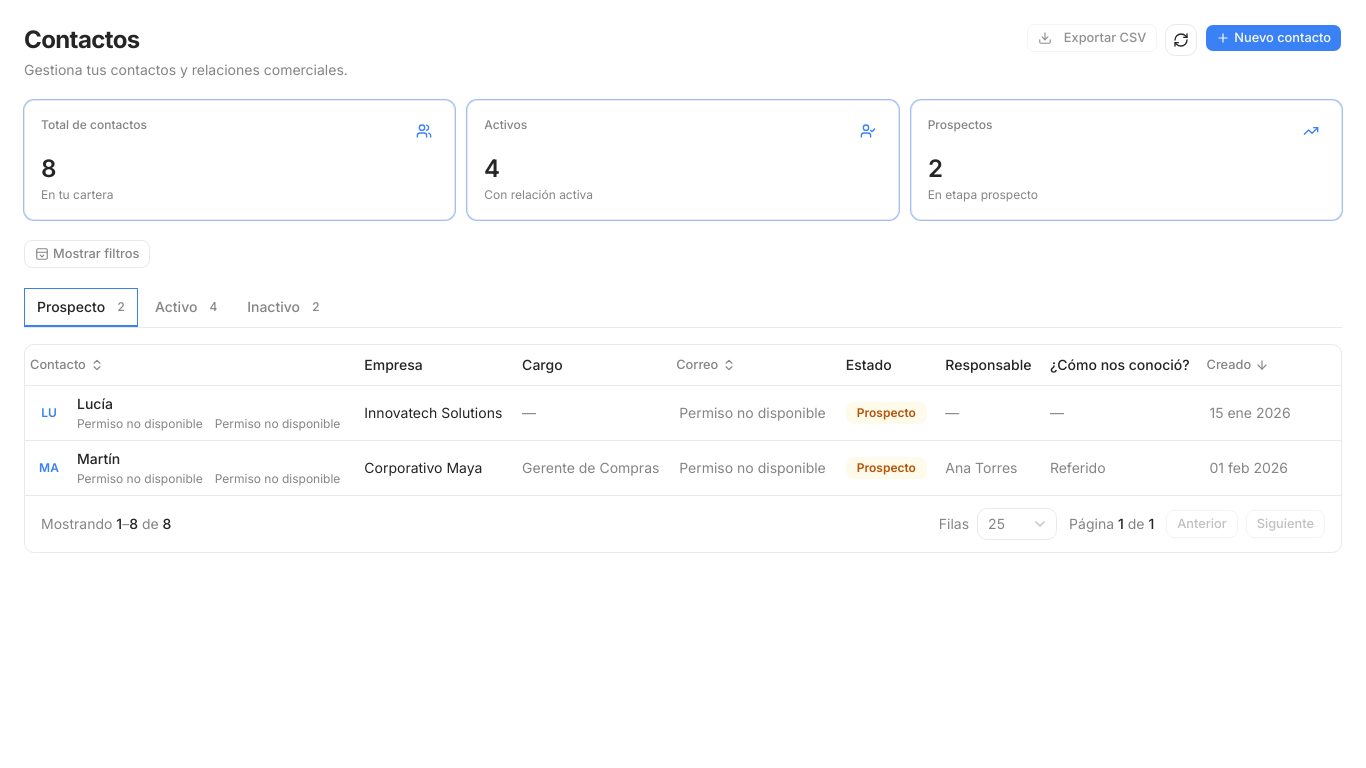
Test: ContactosPage › el botón "Nuevo contacto" abre el diálogo de creación
This screenshot has width=1366, height=768.
Expected: the link "Lucía" is shown, 77,394 -> 113,412
Click the button "Nuevo contacto".
click(1274, 38)  # box 1205,24 -> 1342,52
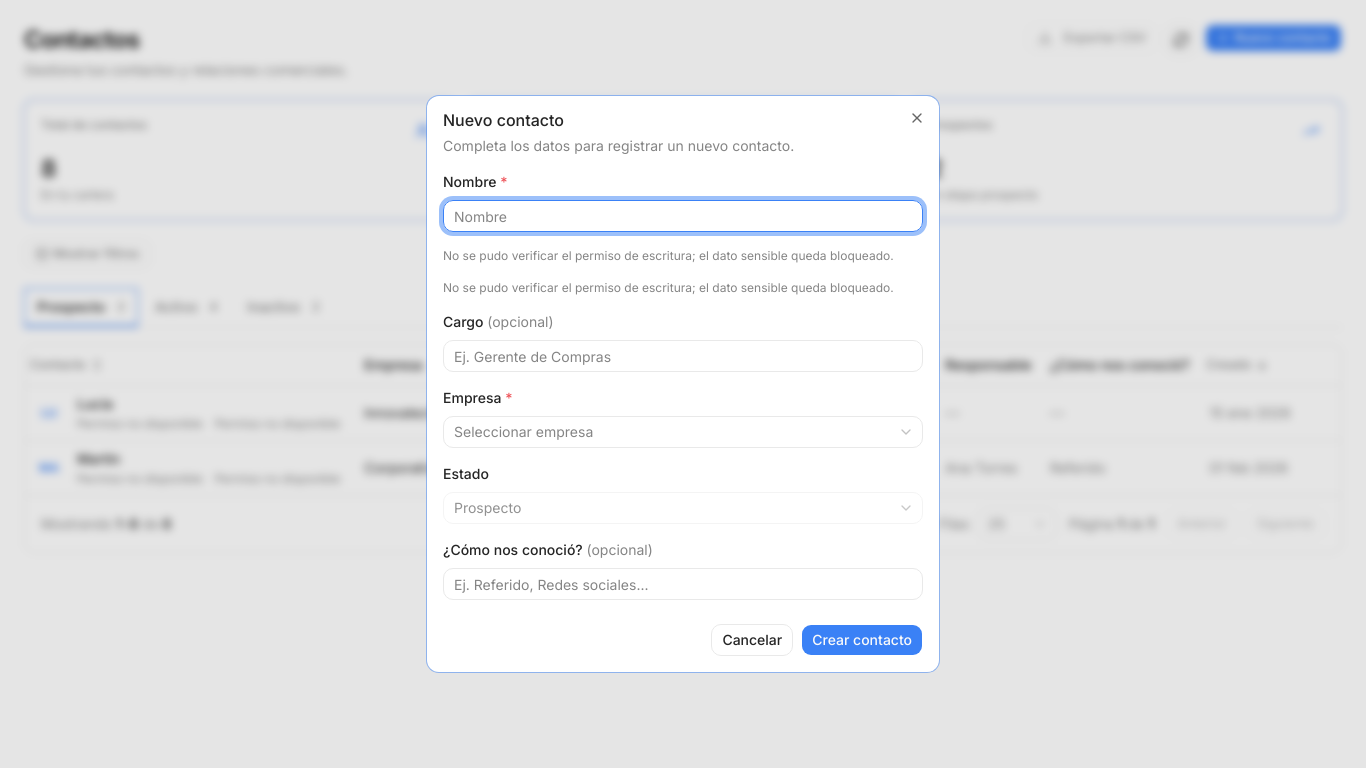
Now the dialog is shown, box 427,96 -> 939,672
